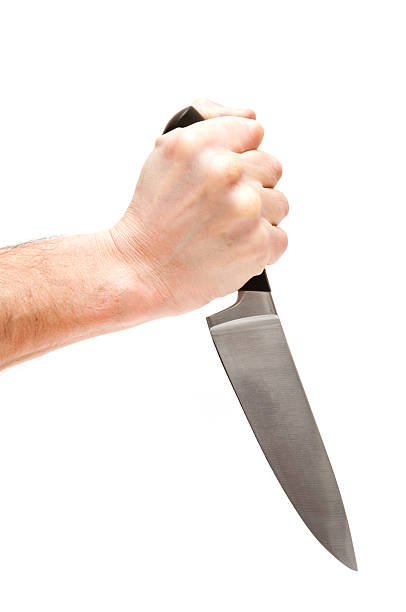knife: (161, 104, 359, 572)
